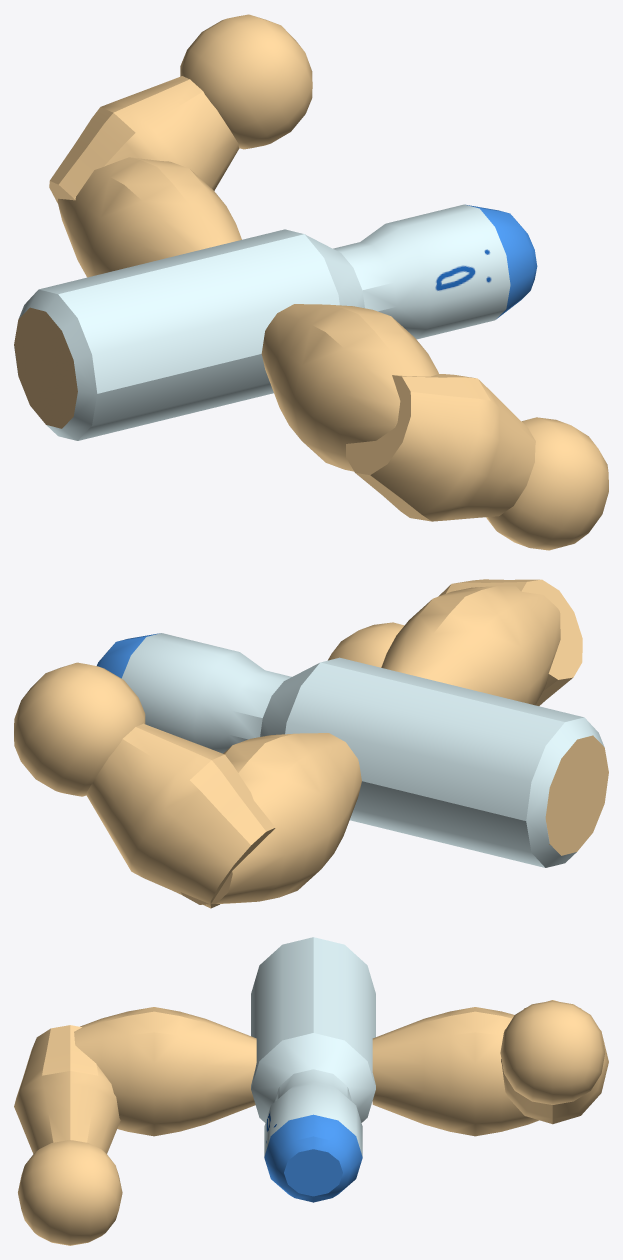
The model's file is machine2.obj.
3 views of the same model, one above another, from view 1: azimuth 30°, elevation 25°; view 2: azimuth 150°, elevation 25°; view 3: azimuth 270°, elevation 25° (orthographic). The views are drawn at different scales.
Visible parts, largest first — view 1: Body; view 2: Body; view 3: Body.
Boxes of the visible parts, bbox=[...] form: Body: bbox=[14, 14, 608, 550]; Body: bbox=[14, 579, 608, 908]; Body: bbox=[14, 937, 608, 1245].
Size of the model in its own units: 1.05 by 0.6307 by 1.43.
5 materials, 5 textured.
